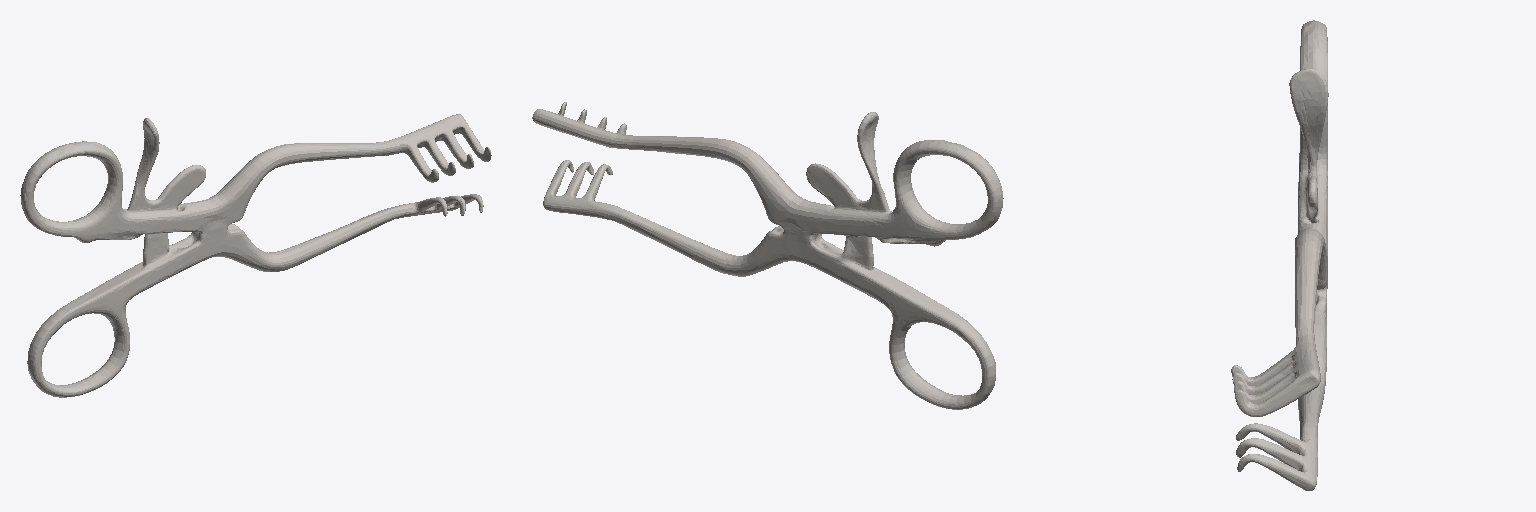
robot.urdf — Tooling_23:
<?xml version="1.0" encoding="utf-8"?>
<!-- This URDF was automatically created by SolidWorks to URDF Exporter! Originally created by Stephen Brawner (brawner@gmail.com)
     Commit Version: 1.6.0-4-g7f85cfe  Build Version: 1.6.7995.38578
     For more information, please see http://wiki.ros.org/sw_urdf_exporter -->
<robot
  name="Tooling_23">
  <link
    name="base_link">
    <inertial>
      <origin
        xyz="-2.4603E-05 2.994E-05 0.00058026"
        rpy="0 0 0" />
      <mass
        value="0.081564" />
      <inertia
        ixx="2.1112E-05"
        ixy="-4.1436E-06"
        ixz="-3.4322E-06"
        iyy="0.00010712"
        iyz="-1.1967E-07"
        izz="0.00012724" />
    </inertial>
    <visual>
      <origin
        xyz="0 0 0"
        rpy="0 0 0" />
      <geometry>
        <mesh
          filename="../meshes/base_link.STL" />
      </geometry>
      <material
        name="">
        <color
          rgba="0.77647 0.75686 0.73725 1" />
      </material>
    </visual>
    <collision>
      <origin
        xyz="0 0 0"
        rpy="0 0 0" />
      <geometry>
        <mesh
          filename="../meshes/base_link.STL" />
      </geometry>
    </collision>
  </link>
</robot>

--- What the picture shows (computed from the rendered views, not written in the file) ---
The picture shows the robot from 3 angles, left to right: view 1: azimuth 30°, elevation 25°; view 2: azimuth 150°, elevation 25°; view 3: azimuth 270°, elevation 25°; orthographic projection.
Robot: Tooling_23 — 1 links, 0 joints (none); root link base_link; default pose: every joint at zero.
Visible links, largest first — view 1: base_link; view 2: base_link; view 3: base_link.
Link boxes in pixels (x1,y1,x2,y2): base_link: [20, 114, 491, 397]; base_link: [532, 102, 1003, 409]; base_link: [1231, 20, 1328, 490].
Bounding box of the posed robot: 0.1404 × 0.0198 × 0.0782 m (x, y, z).
1 mesh visuals loaded from 1 distinct referenced files (1 binary STL).
